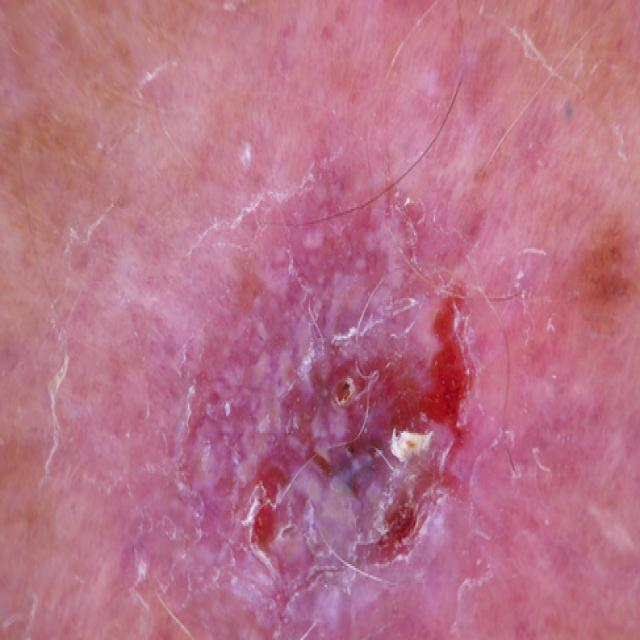Carcinoma: (137, 203, 536, 640)
